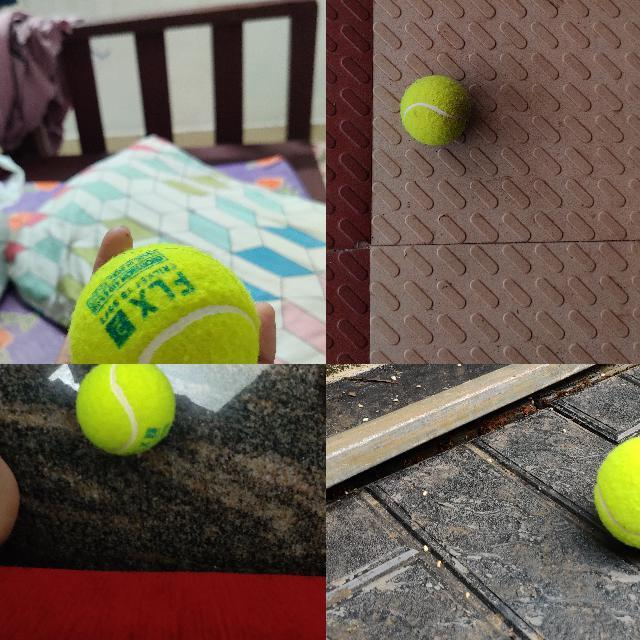tennis-ball: (67, 243, 261, 363), (75, 364, 177, 455), (592, 434, 639, 551), (400, 75, 471, 145)
